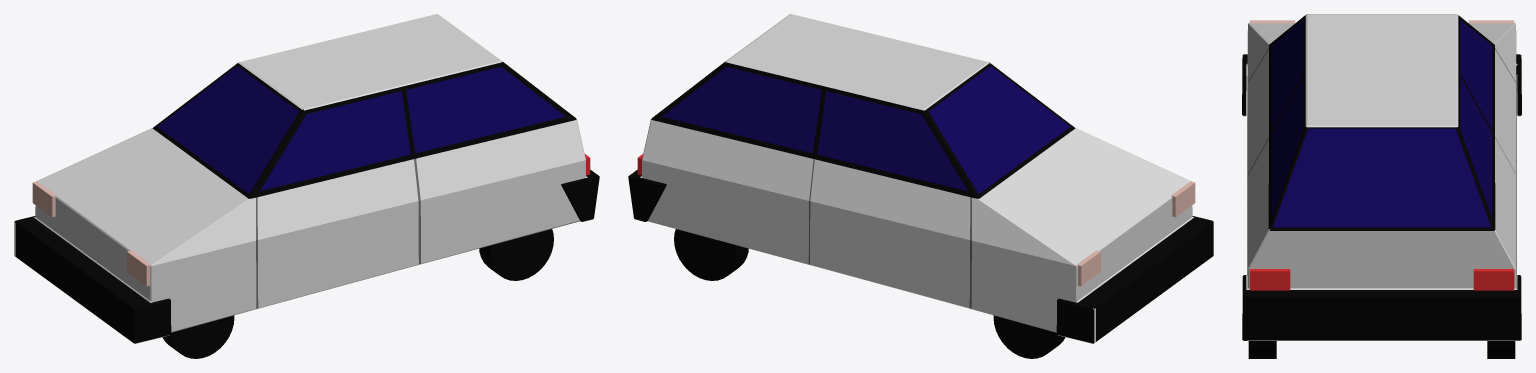
File: mehran.fbx
3 views of the same model, side by side, from view 1: azimuth 30°, elevation 25°; view 2: azimuth 150°, elevation 25°; view 3: azimuth 270°, elevation 25° (orthographic). The views are drawn at different scales.
Visible parts, largest first — view 1: Cube, Circle, Cube.002; view 2: Cube, Circle, Cube.002; view 3: Cube, Cube.001, Circle, Cube.002.
Part boxes in pixels (bbox=[...]): Cube: bbox=[14, 14, 599, 343]; Circle: bbox=[162, 229, 553, 358]; Cube.002: bbox=[32, 181, 151, 286]; Cube: bbox=[628, 14, 1213, 343]; Circle: bbox=[674, 229, 1065, 358]; Cube.002: bbox=[1076, 181, 1195, 286]; Cube: bbox=[1242, 14, 1521, 340]; Cube.001: bbox=[1249, 269, 1514, 290]; Circle: bbox=[1248, 341, 1515, 358]; Cube.002: bbox=[1249, 20, 1514, 23].
Size of the model in its own units: 428 by 175 by 192.
